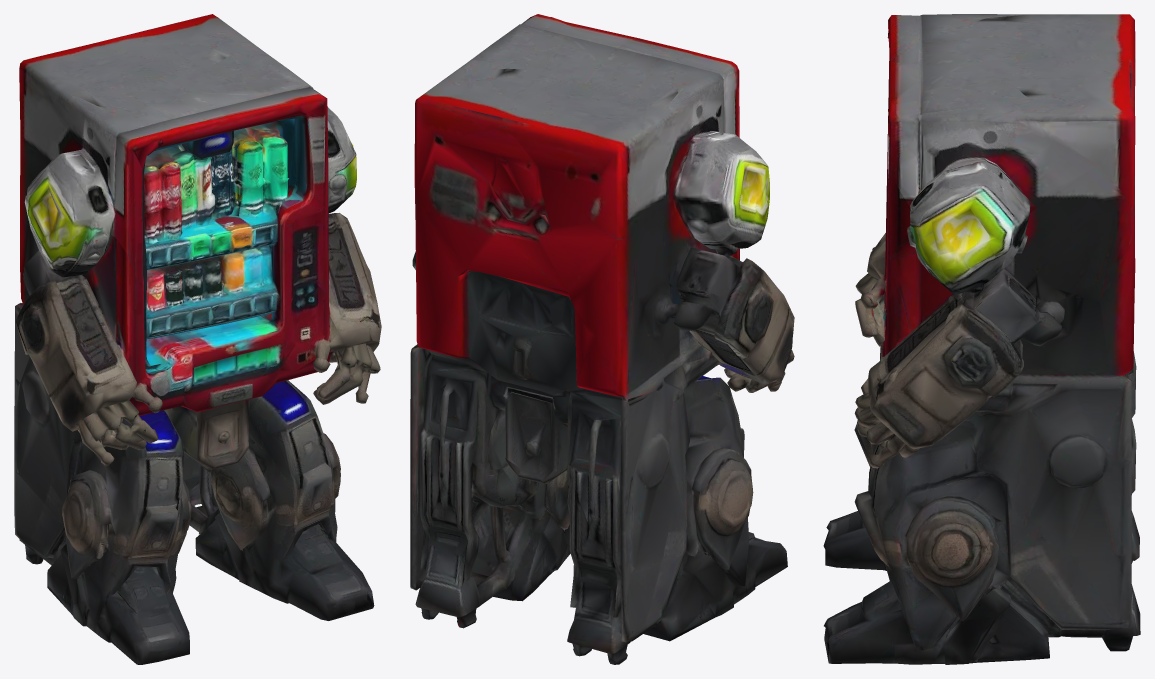
File: vending-machine-golem-17545.glb
3 renders of one model, left to right at view 1: azimuth 30°, elevation 25°; view 2: azimuth 150°, elevation 25°; view 3: azimuth 270°, elevation 25°, orthographic. The views are drawn at different scales.
Bounding box in the file's own units: 1.29 × 1.91 × 1.02.
Materials: 1 (1 with a texture image).
